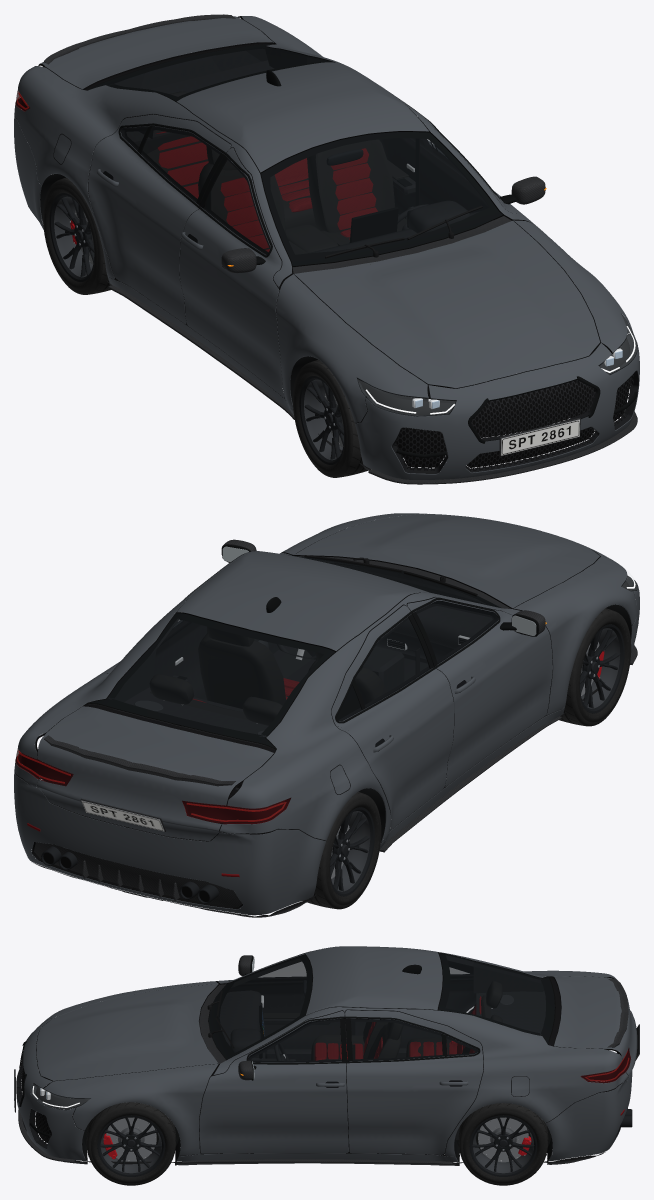
The model's file is sport-sedan-hood.glb.
3 views of the same model, one above another, from view 1: azimuth 30°, elevation 25°; view 2: azimuth 150°, elevation 25°; view 3: azimuth 270°, elevation 25° (orthographic). The views are drawn at different scales.
Parts seen in each view (by area): view 1: Body, Hood, Wheel_FR, Wheel_RR; view 2: Body, Hood, Wheel_FR, Wheel_RR; view 3: Body, Hood, Wheel_RL, Wheel_FL.
Part boxes in pixels (left/top/right/bottom): Body: left=14, top=14, right=639, bottom=484; Hood: left=310, top=234, right=612, bottom=393; Wheel_FR: left=293, top=360, right=371, bottom=477; Wheel_RR: left=43, top=177, right=111, bottom=294; Body: left=14, top=513, right=639, bottom=917; Hood: left=310, top=513, right=611, bottom=598; Wheel_FR: left=559, top=608, right=631, bottom=726; Wheel_RR: left=303, top=792, right=381, bottom=909; Body: left=14, top=946, right=639, bottom=1165; Hood: left=26, top=986, right=198, bottom=1086; Wheel_RL: left=458, top=1103, right=548, bottom=1185; Wheel_FL: left=86, top=1102, right=176, bottom=1185.
Bounding box in the file's own units: 2.11 × 1.45 × 4.81.
59 materials, 12 textured.
